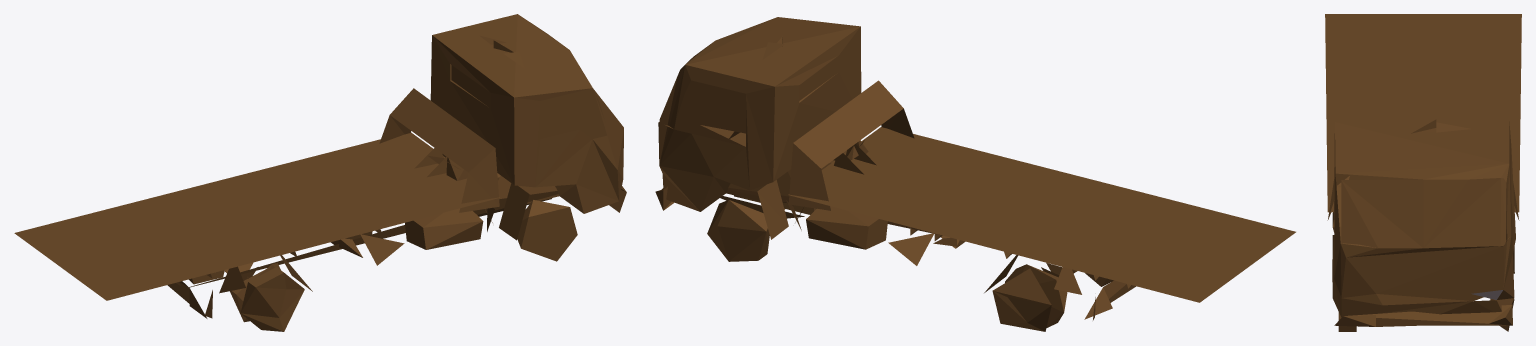
File: civ-tow.lod2.glb
The picture shows the model from 3 angles, left to right: view 1: azimuth 30°, elevation 25°; view 2: azimuth 150°, elevation 25°; view 3: azimuth 270°, elevation 25°; orthographic projection. The views are drawn at different scales.
Visible parts, largest first — view 1: towtruck_towtruck_0; view 2: towtruck_towtruck_0; view 3: towtruck_towtruck_0.
Part boxes in pixels (bbox=[...]): towtruck_towtruck_0: bbox=[14, 14, 626, 331]; towtruck_towtruck_0: bbox=[655, 17, 1295, 331]; towtruck_towtruck_0: bbox=[1325, 14, 1521, 331].
Size of the model in its own units: 6.93 by 2.38 by 2.08.
